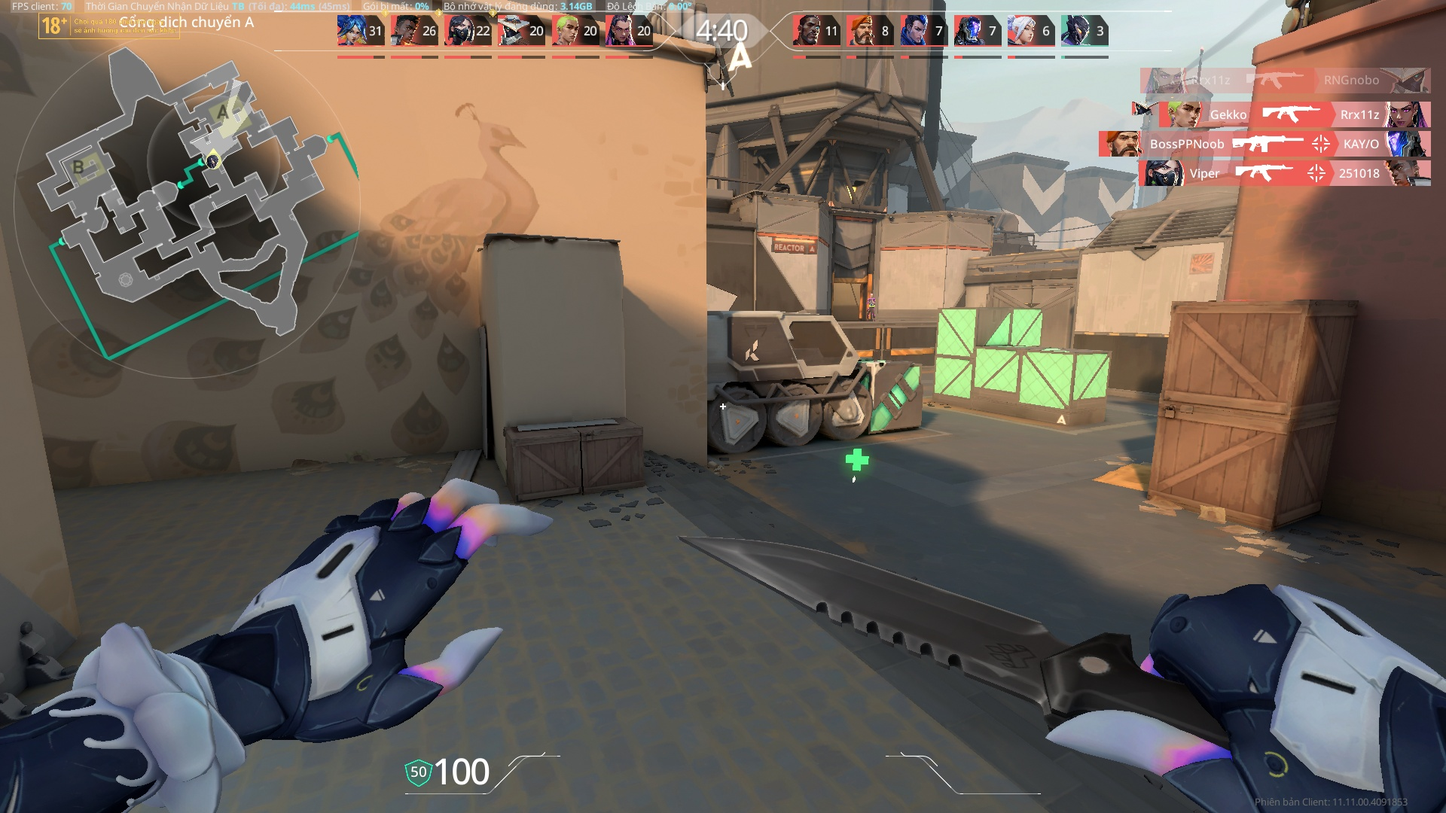body: (866, 295, 877, 309)
head: (868, 291, 874, 298)
